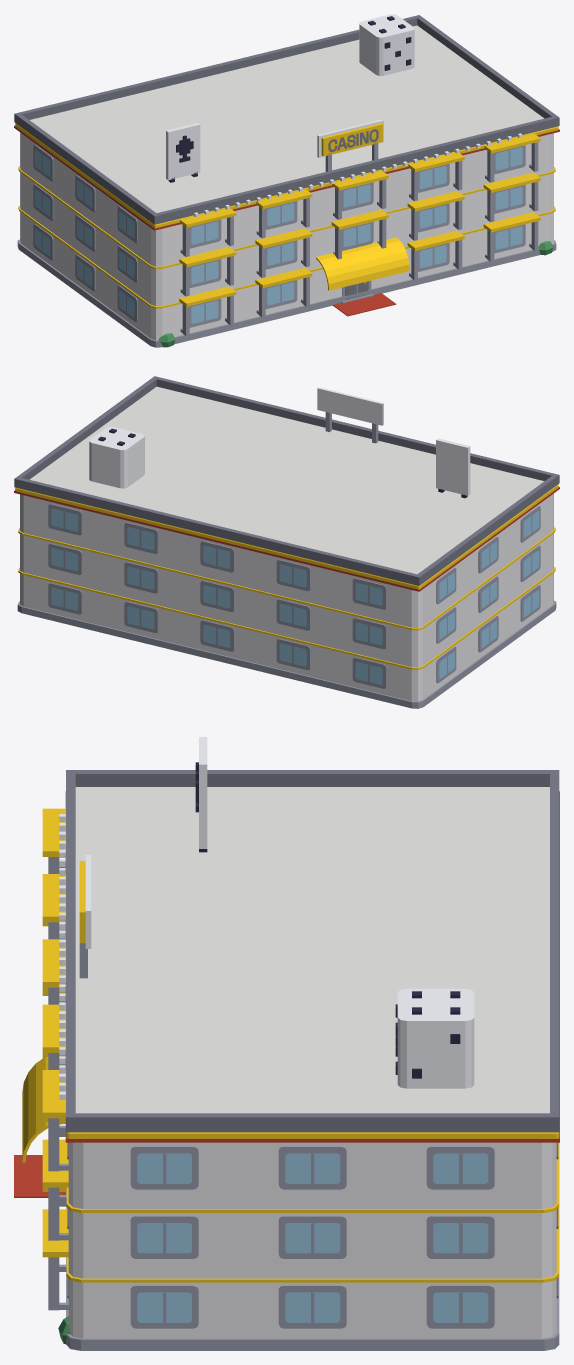
Rendered from casino-3x2-t2-tone-a.glb.
The picture shows the model from 3 angles, top to bottom: view 1: azimuth 30°, elevation 25°; view 2: azimuth 150°, elevation 25°; view 3: azimuth 270°, elevation 25°; orthographic projection. The views are drawn at different scales.
Parts seen in each view (by area): view 1: casino-3x2-t2-tone-a; view 2: casino-3x2-t2-tone-a; view 3: casino-3x2-t2-tone-a.
Boxes of the visible parts, x1,y1,x2,y2 form: casino-3x2-t2-tone-a: (14, 14, 559, 347); casino-3x2-t2-tone-a: (14, 376, 559, 708); casino-3x2-t2-tone-a: (14, 737, 559, 1350).
Size of the model in its own units: 3 by 1.25 by 1.99.
1 material, 1 textured.
